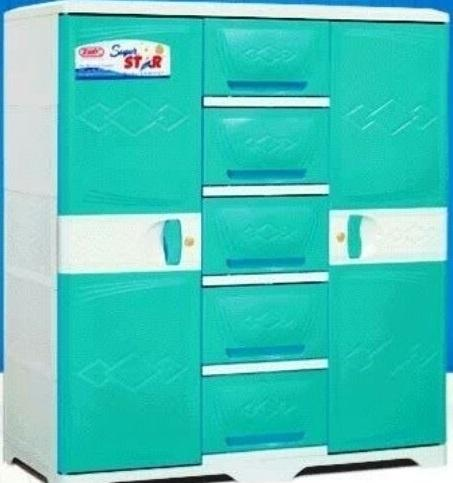cabinet_door: (57, 275, 202, 469), (62, 16, 201, 215), (331, 20, 450, 208), (330, 262, 446, 450), (205, 374, 332, 466), (208, 16, 335, 103), (205, 195, 333, 281), (206, 106, 334, 192), (206, 284, 332, 371), (60, 214, 201, 273), (330, 209, 449, 262)
handle: (224, 428, 308, 450), (227, 77, 312, 94), (226, 165, 310, 182), (224, 342, 308, 359), (225, 256, 307, 271), (331, 229, 348, 244), (184, 233, 197, 249)
